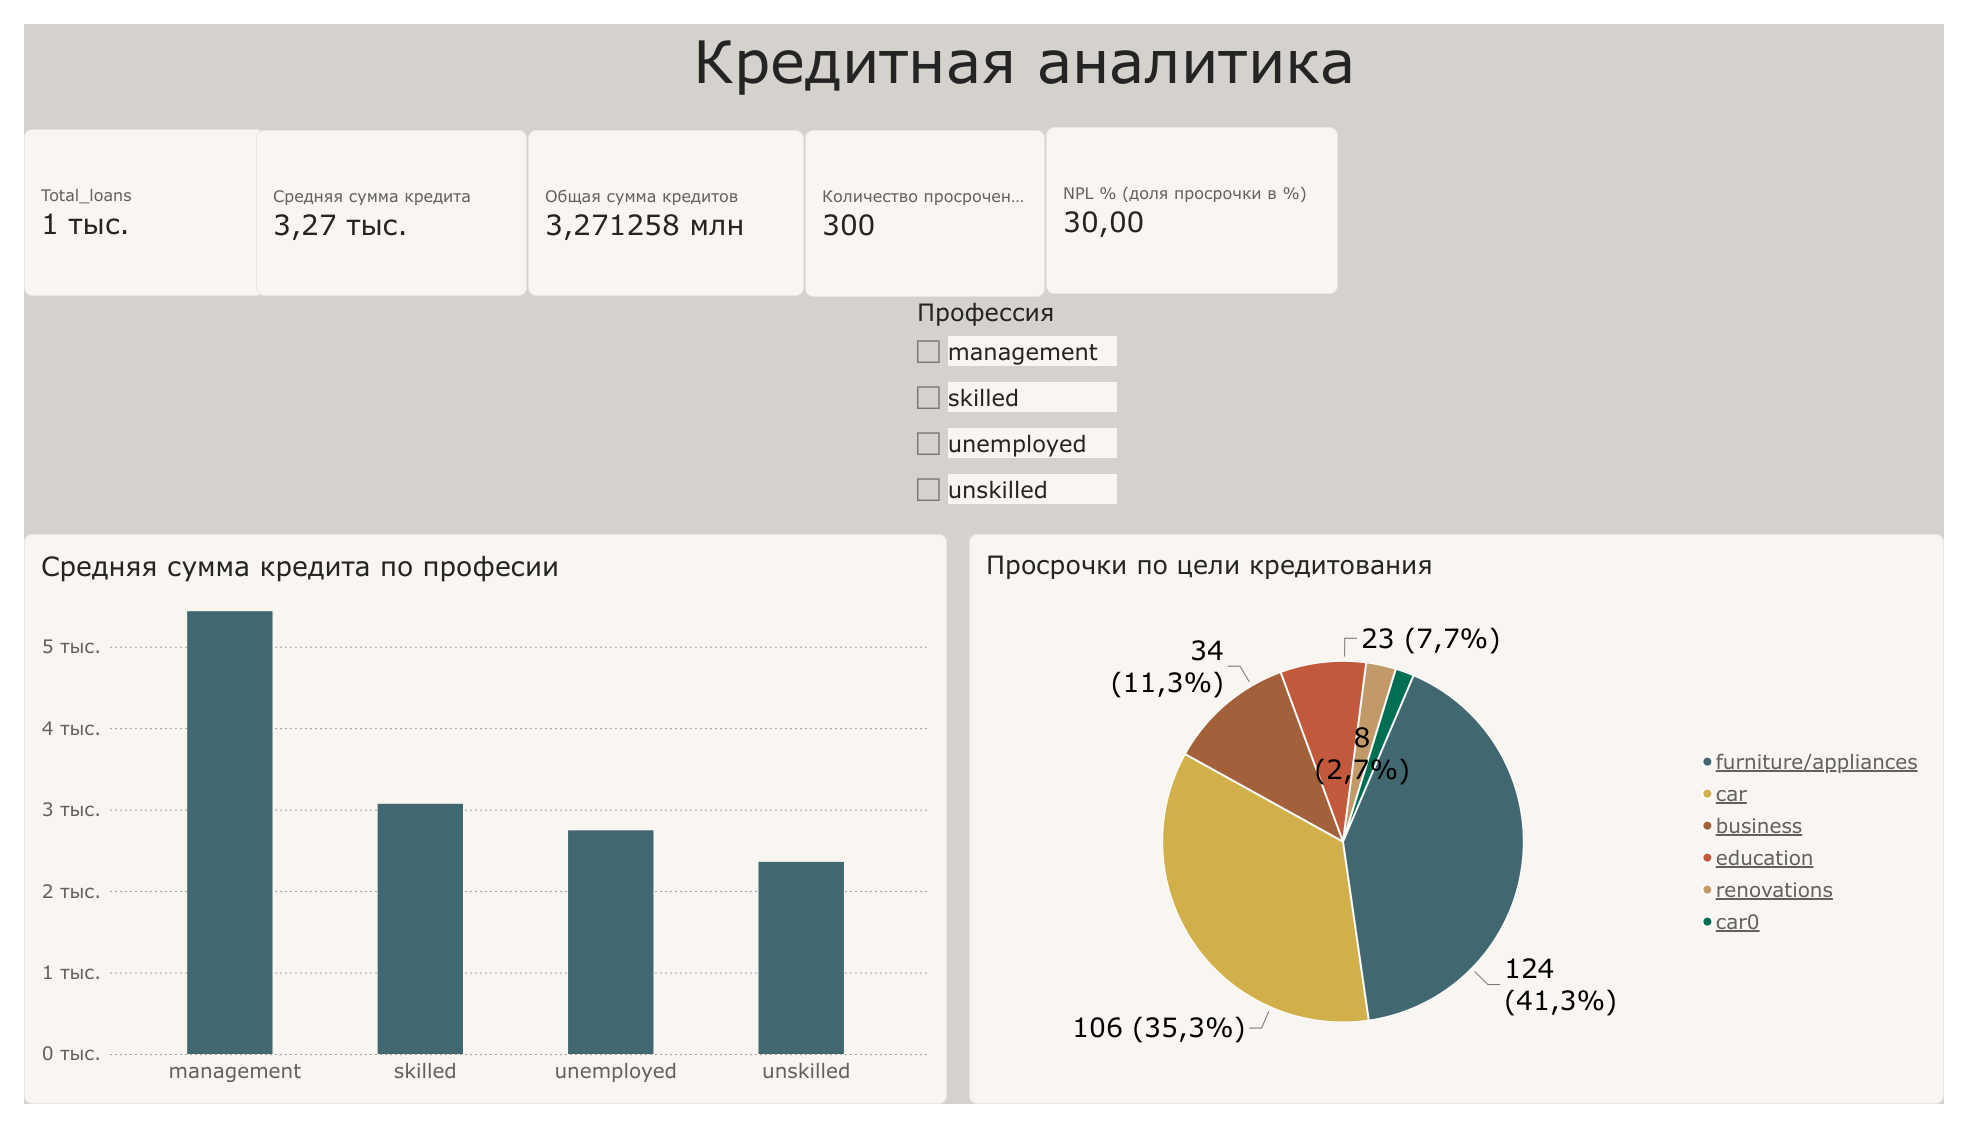

This screenshot's page, from the dashboard's own definition file:
{"tool":"powerbi","page":{"name":"Страница 1","canvas":[1920,1080],"ordinal":0},"visuals":[{"type":"cardVisual","fields":{"Data":["public credit_data.Total_loans"]},"box":[0,105,240.9,167.2],"z":0},{"type":"cardVisual","fields":{"Data":["public credit_data.Средняя сумма кредита"]},"box":[232.1,105.5,272,166.5],"z":2},{"type":"cardVisual","fields":{"Data":["public credit_data.Количество просроченных кредитов"]},"box":[780.7,105.5,240.9,167.2],"z":3},{"type":"cardVisual","fields":{"Data":["public credit_data.NPL % (доля просрочки в %)"]},"box":[1022.2,103.2,292.5,167.5],"z":4},{"type":"columnChart","title":"Средняя сумма кредита по професии","fields":{"Category":["public credit_data.job"],"Y":["public credit_data.Средняя сумма кредита"]},"box":[0,510,922.5,570],"z":5},{"type":"pieChart","title":"Просрочки по цели кредитования","fields":{"Category":["public credit_data.purpose"],"Y":["public credit_data.Количество просроченных кредитов"]},"box":[945,510,975,570],"z":6},{"type":"slicer","fields":{"Values":["public credit_data.job"]},"box":[885,272.5,207.5,215],"z":7},{"type":"textbox","box":[295,0,1410,127.5],"z":8},{"type":"cardVisual","fields":{"Data":["public credit_data.Общая сумма кредитов"]},"box":[504.1,105.5,276.6,166.5],"z":9}]}

Visuals, with their boxes in screenshot pixels (x1, y1, x2, y2), scaled from the page's 1920x1080 canvas onto the 1968x1128 screenshot:
cardVisual - public credit_data.Total_loans: Rect(0, 110, 247, 284)
cardVisual - public credit_data.Средняя сумма кредита: Rect(238, 110, 517, 284)
cardVisual - public credit_data.Количество просроченных кредитов: Rect(800, 110, 1047, 285)
cardVisual - public credit_data.NPL % (доля просрочки в %): Rect(1048, 108, 1348, 283)
"Средняя сумма кредита по професии" columnChart: Rect(0, 533, 946, 1127)
"Просрочки по цели кредитования" pieChart: Rect(969, 533, 1967, 1127)
slicer - public credit_data.job: Rect(907, 285, 1120, 509)
textbox: Rect(302, 0, 1748, 133)
cardVisual - public credit_data.Общая сумма кредитов: Rect(517, 110, 800, 284)
